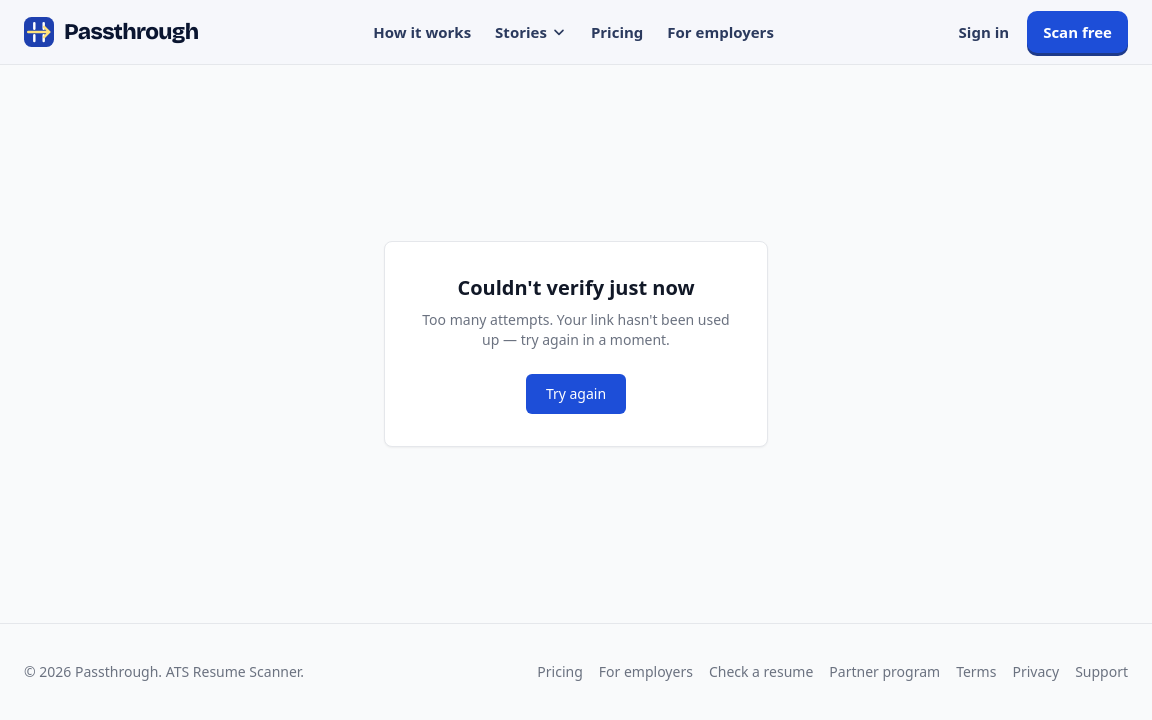
it: VerifyEmail › status 429 is NOT reported as an invalid link — it offers a retry that works
The width and height of the screenshot is (1152, 720).
Expected: the heading "Couldn't verify just now" is shown, [457,274,695,301]
Click the button "Try again".
click(576, 394)  # box [526,374,626,414]
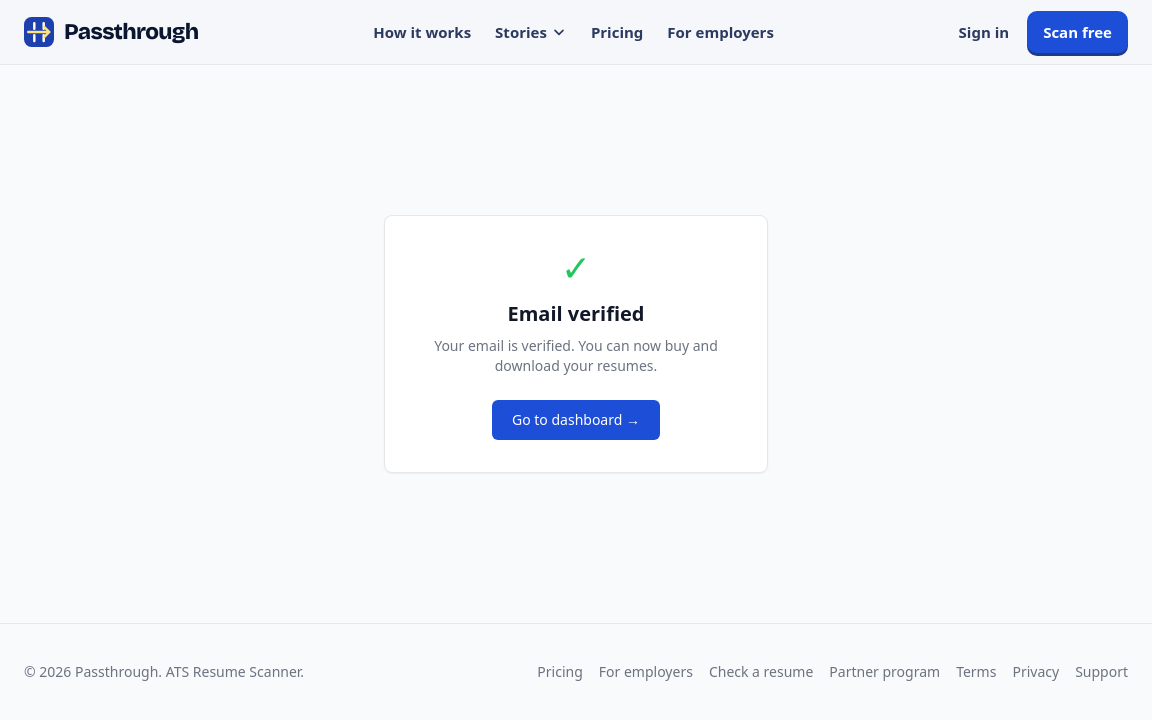
Now the heading "Email verified" is shown, box [508,300,644,327]
